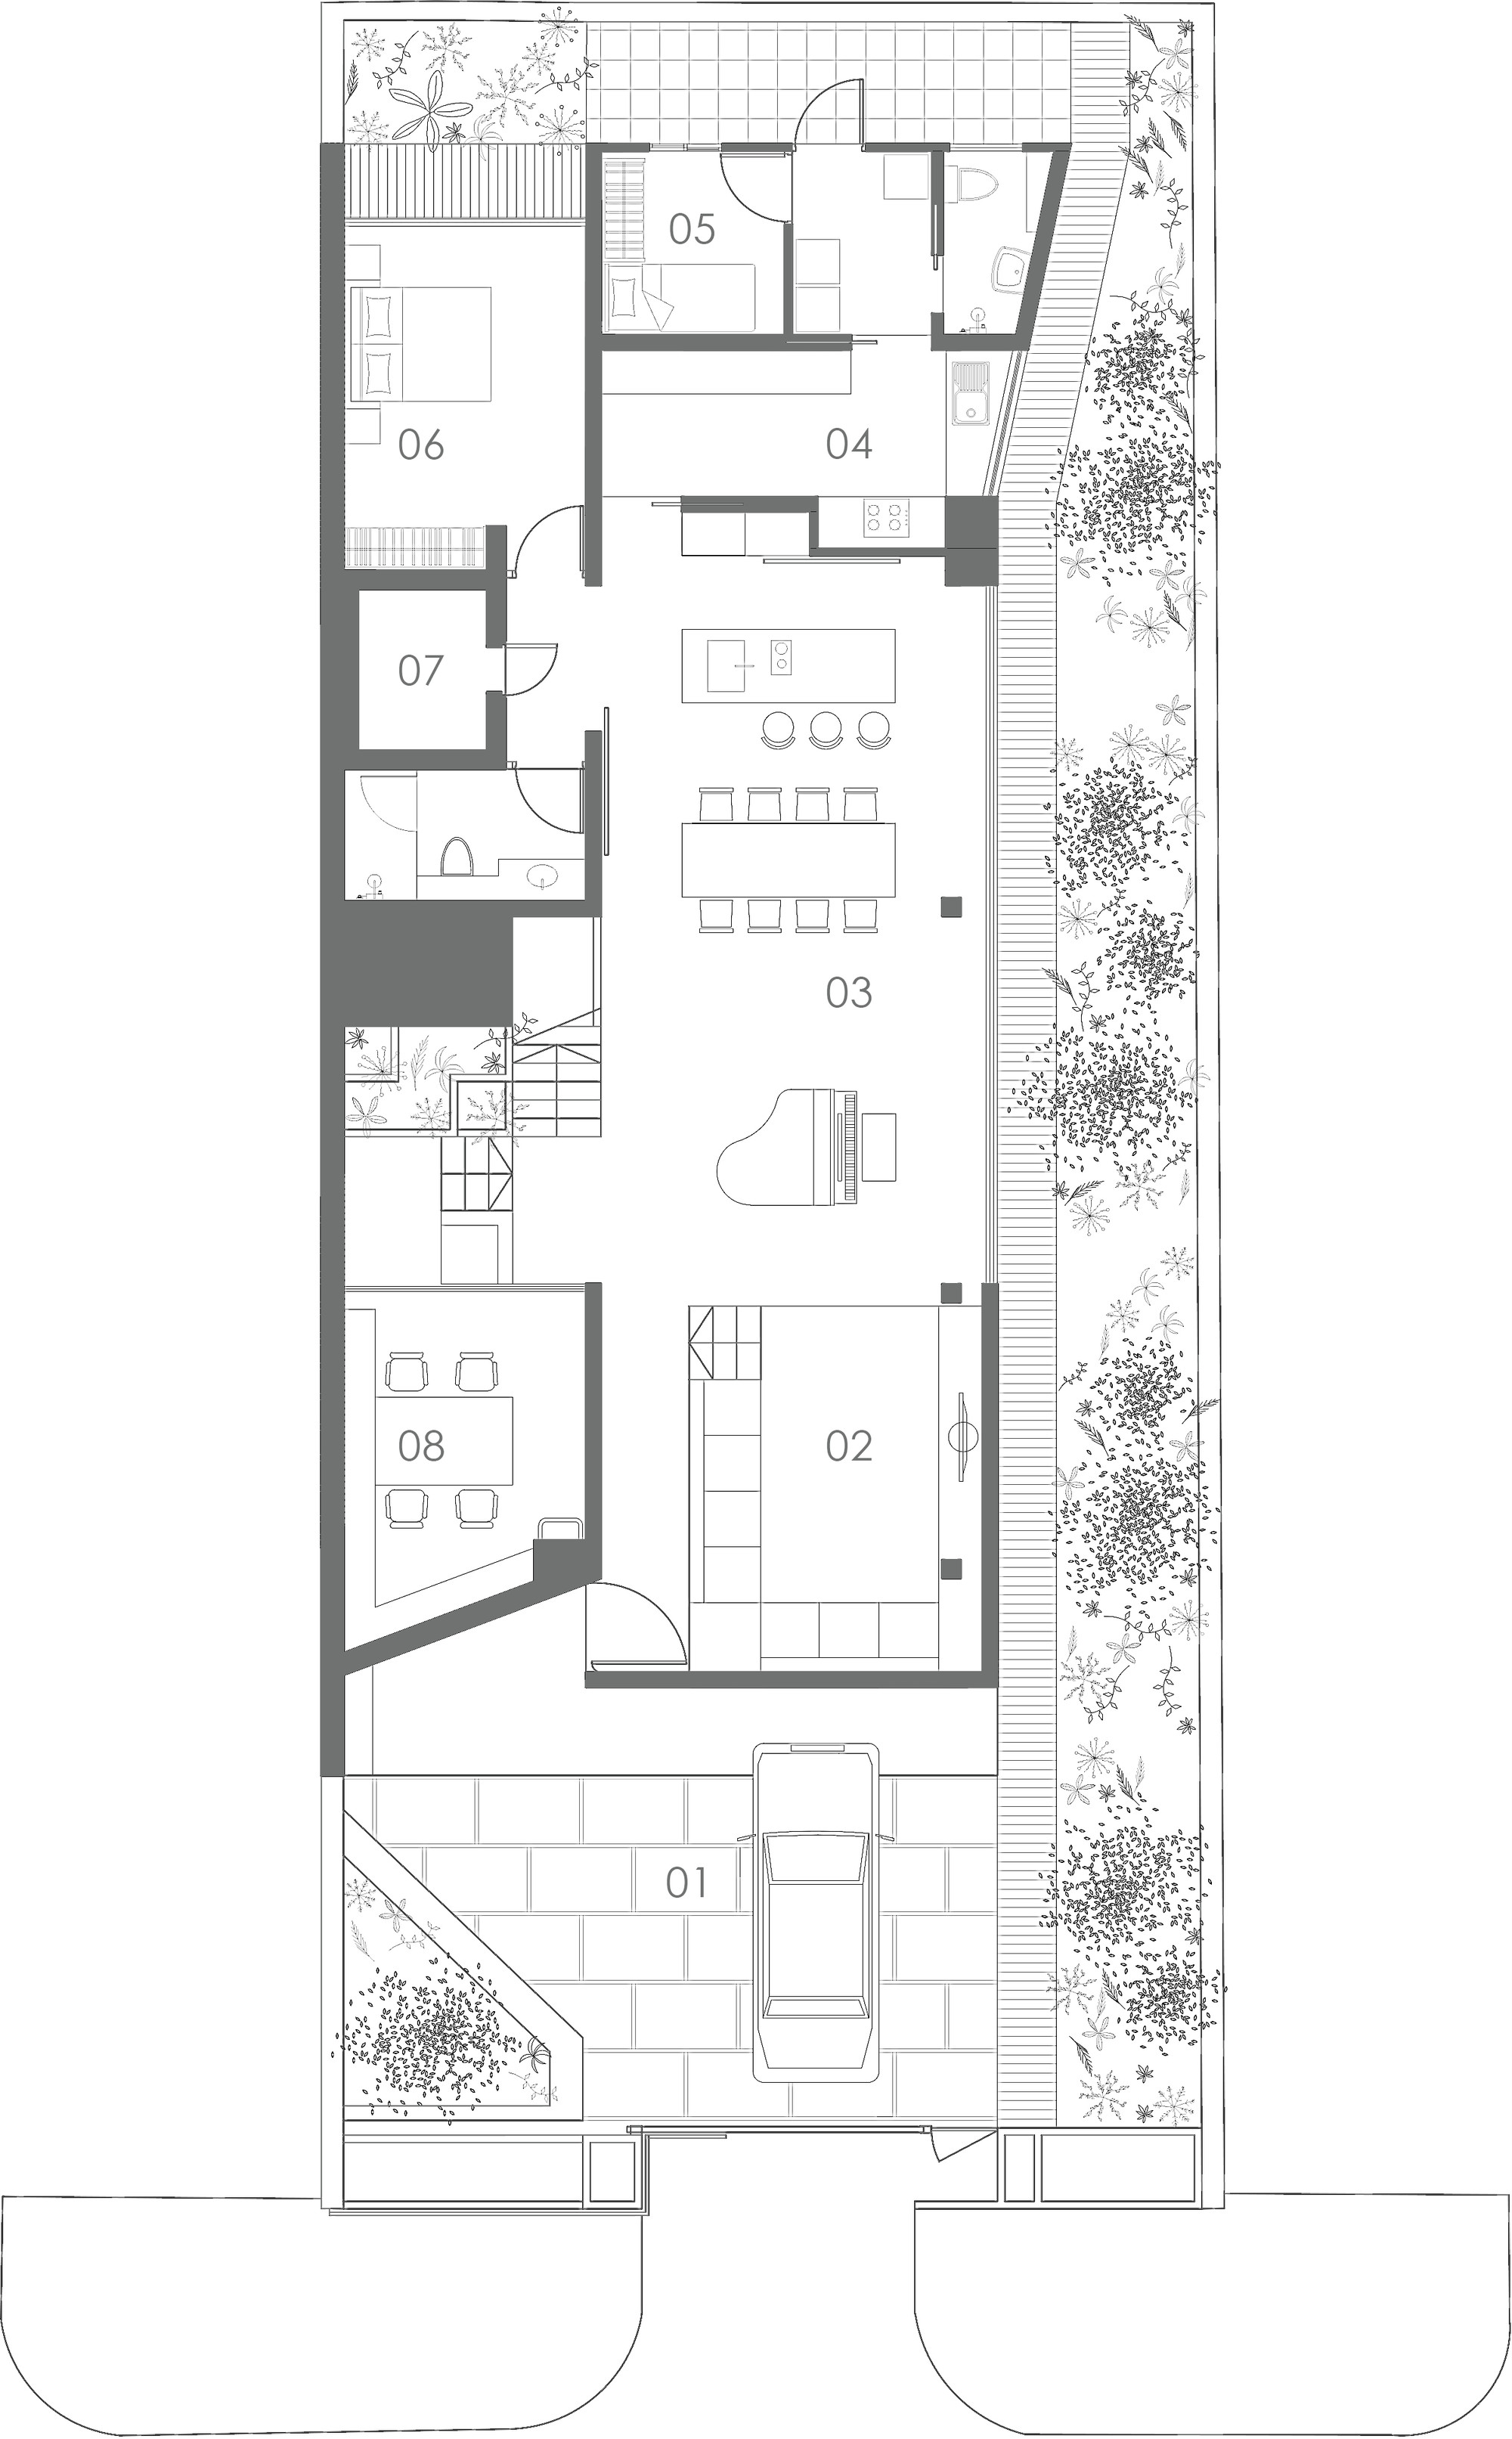wall: (315, 138, 348, 1775), (577, 1662, 998, 1693), (580, 141, 603, 582), (580, 1277, 603, 1589), (982, 1284, 1000, 1676), (587, 329, 854, 352), (334, 1277, 597, 1300), (939, 491, 993, 587), (350, 901, 596, 922), (577, 725, 603, 911), (340, 564, 503, 594), (920, 136, 951, 267), (354, 746, 498, 774), (481, 526, 509, 641), (686, 497, 813, 519), (812, 533, 942, 554), (864, 132, 958, 160), (777, 221, 800, 324), (486, 690, 512, 763)
